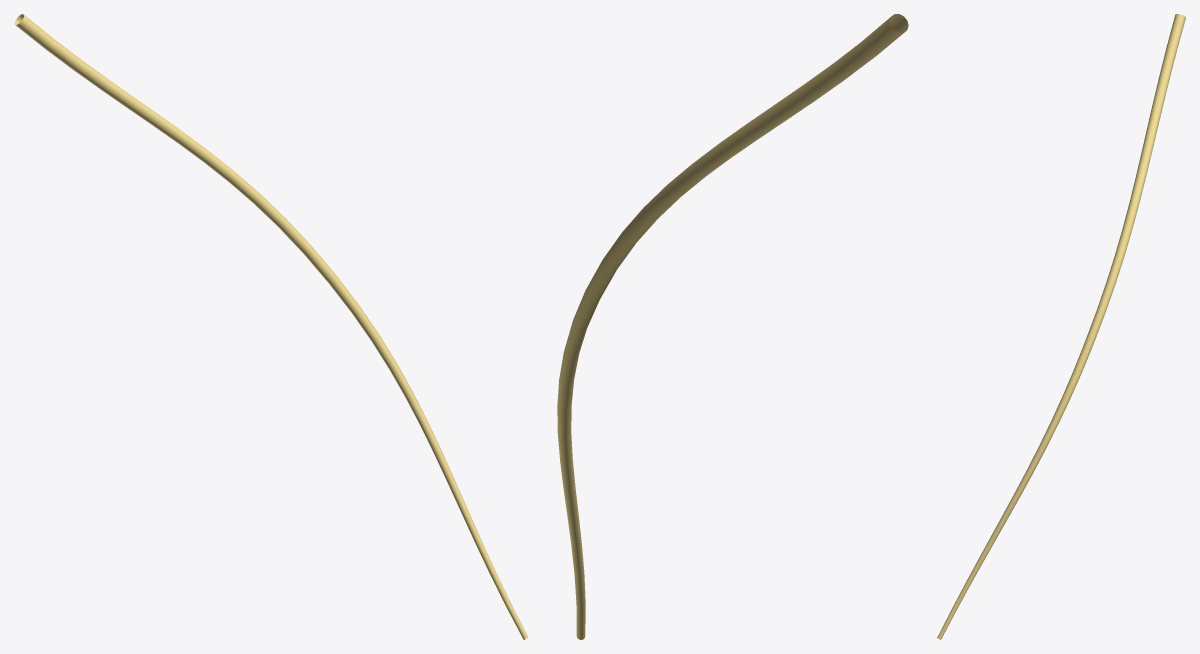
3 renders of one model, left to right at view 1: azimuth 30°, elevation 25°; view 2: azimuth 150°, elevation 25°; view 3: azimuth 270°, elevation 25°, orthographic. The views are drawn at different scales.
Parts seen in each view (by area): view 1: ZA_e46ad0e7fd1c346a; view 2: ZA_e46ad0e7fd1c346a; view 3: ZA_e46ad0e7fd1c346a.
Part boxes in pixels (<box>): ZA_e46ad0e7fd1c346a: <box>14,14,528,639</box>; ZA_e46ad0e7fd1c346a: <box>557,14,908,639</box>; ZA_e46ad0e7fd1c346a: <box>937,14,1185,639</box>.
Bounding box in the file's own units: 0.0301 × 0.0475 × 0.022.
